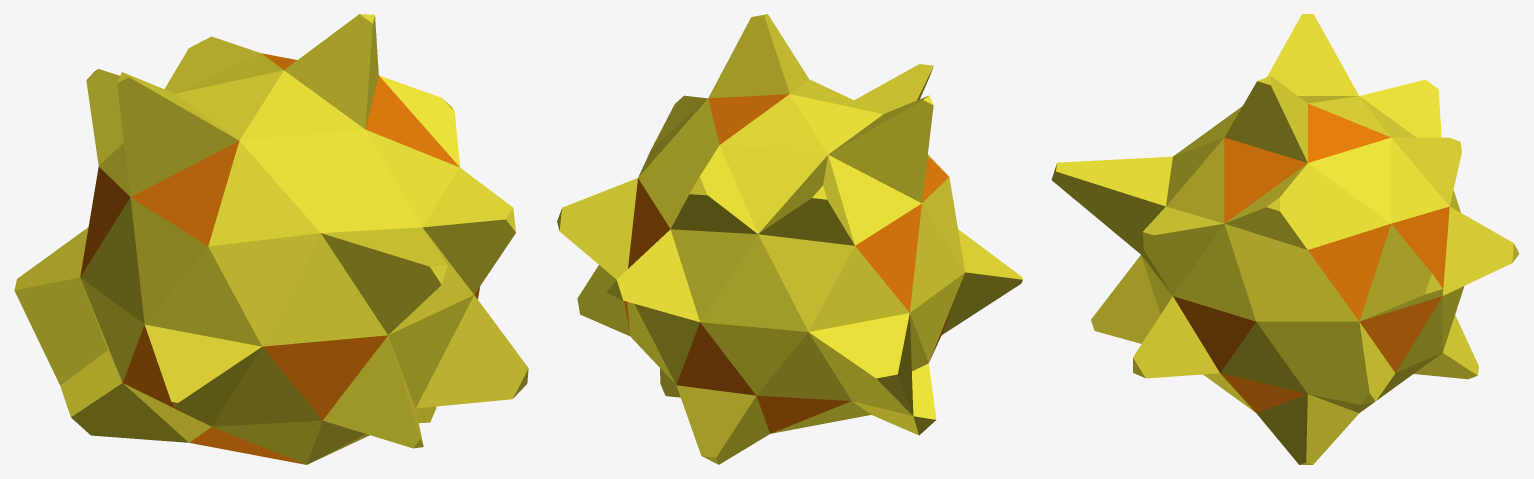
File: explosion.glb
3 renders of one model, left to right at view 1: azimuth 30°, elevation 25°; view 2: azimuth 150°, elevation 25°; view 3: azimuth 270°, elevation 25°, orthographic. The views are drawn at different scales.
Parts seen in each view (by area): view 1: Icosphere; view 2: Icosphere; view 3: Icosphere.
Boxes of the visible parts, x1,y1,x2,y2 form: Icosphere: (14, 14, 528, 464); Icosphere: (557, 14, 1022, 464); Icosphere: (1051, 14, 1519, 464).
Size of the model in its own units: 2.25 by 2.35 by 2.81.
